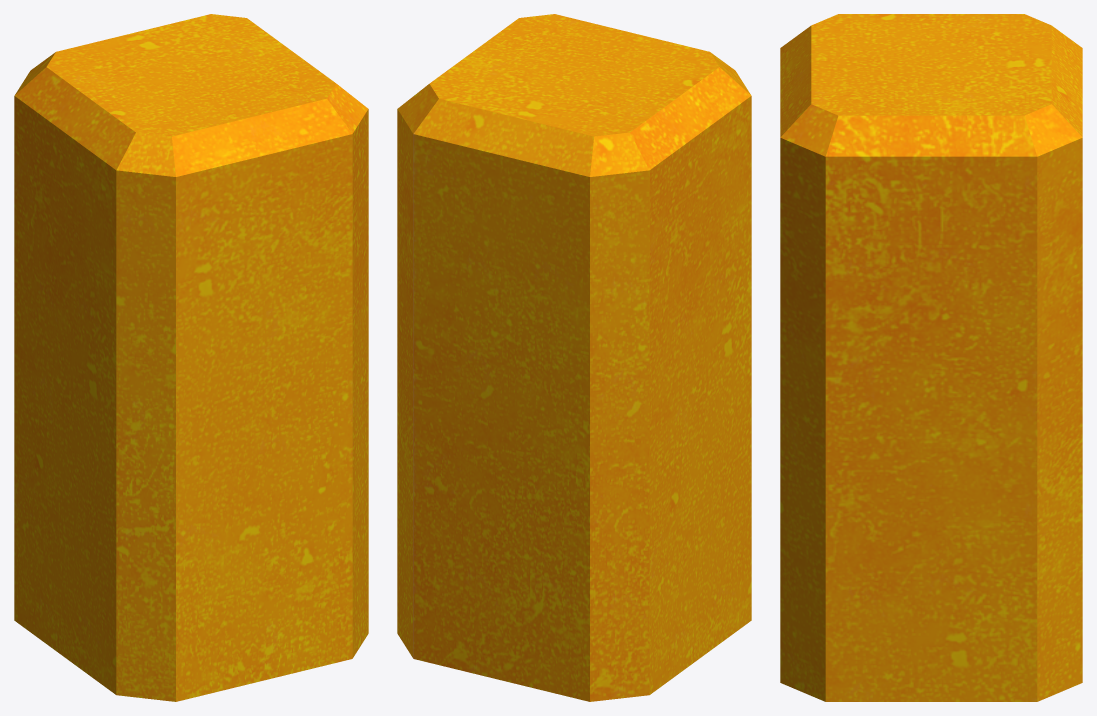
File: LightPoleWeight_01_SM_Low.fbx
3 views of the same model, side by side, from view 1: azimuth 30°, elevation 25°; view 2: azimuth 150°, elevation 25°; view 3: azimuth 270°, elevation 25° (orthographic). The views are drawn at different scales.
Parts seen in each view (by area): view 1: ConcreteWeight; view 2: ConcreteWeight; view 3: ConcreteWeight.
Part boxes in pixels (x1,y1,x2,y2): ConcreteWeight: (14, 14, 368, 701); ConcreteWeight: (397, 14, 751, 701); ConcreteWeight: (780, 14, 1082, 701).
Bounding box in the file's own units: 100 × 209 × 100.
1 material, 1 textured.
